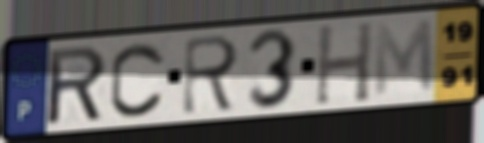3: (246, 26, 300, 112)
C: (107, 40, 168, 120)
H: (312, 19, 376, 107)
M: (372, 16, 438, 100)
R: (179, 32, 243, 117), (46, 43, 110, 128)
